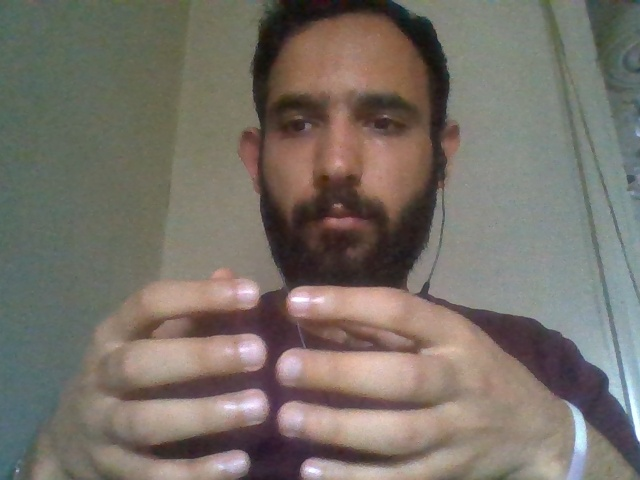Story: (91, 257, 522, 480)
